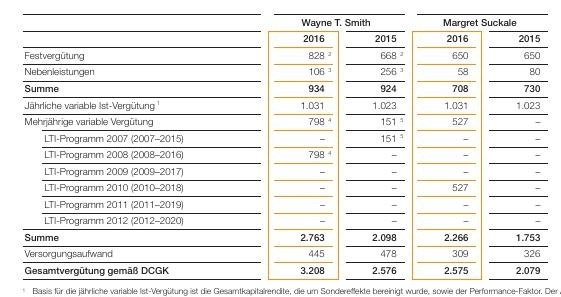table: (0, 0, 561, 297)
